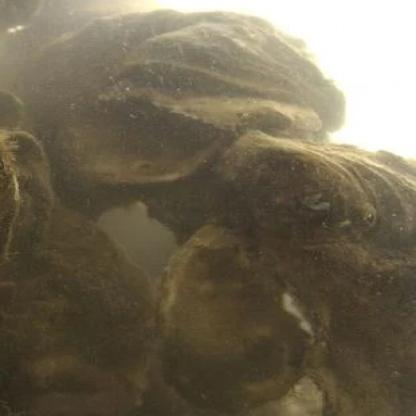Oyster-Closed: (21, 12, 305, 139), (159, 221, 312, 415), (224, 133, 416, 256), (126, 23, 345, 129)
